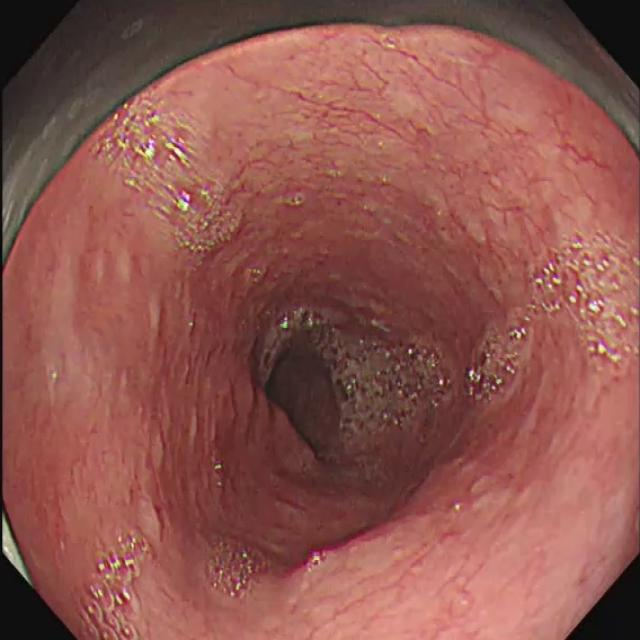E: (263, 338, 344, 468)
T: (89, 89, 243, 258), (535, 234, 640, 375), (335, 337, 451, 438), (73, 527, 153, 640), (465, 306, 536, 409), (204, 532, 271, 602), (262, 307, 343, 364)
